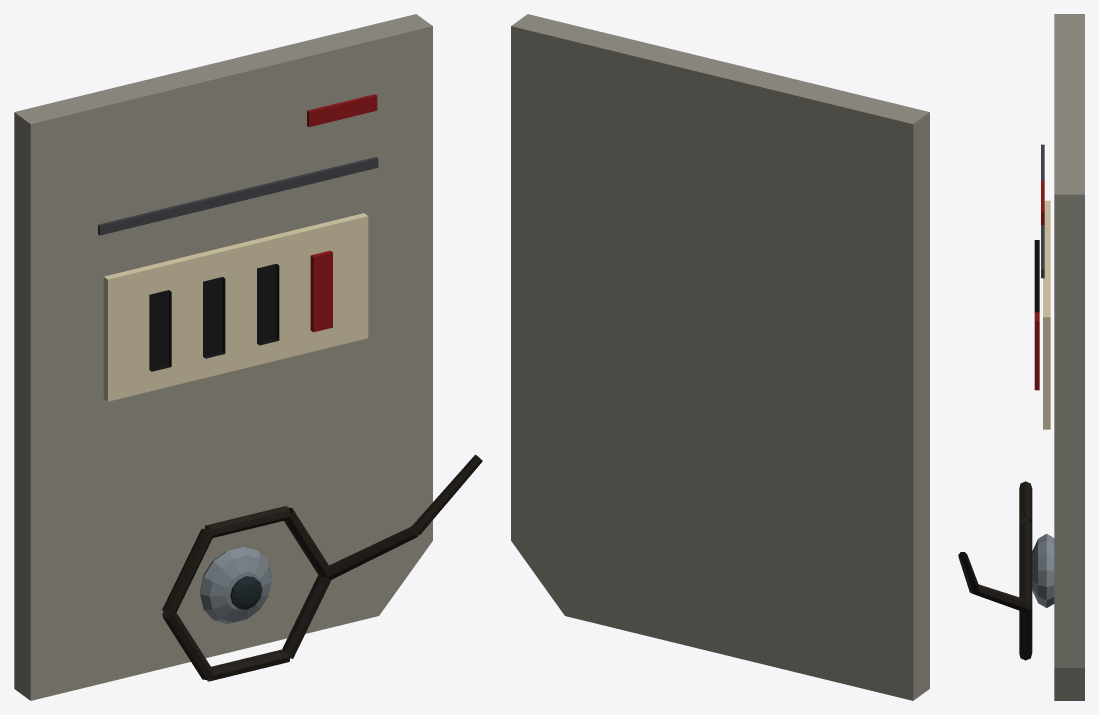
File: hospital_03.obj
3 views of the same model, side by side, from view 1: azimuth 30°, elevation 25°; view 2: azimuth 150°, elevation 25°; view 3: azimuth 270°, elevation 25° (orthographic). The views are drawn at different scales.
Parts seen in each view (by area): view 1: Tag, NumberPlate, Eyelet, StatusLine, DigitStroke0, DigitStroke3, DigitStroke2, DigitStroke1, StringRing2, StringA, StringRing5, CallMark (+6 smaller); view 2: Tag; view 3: Tag, NumberPlate, Eyelet, StringRing0, StringA, StringRing5, StringRing1, DigitStroke3, StringB, StatusLine.
Boxes of the visible parts, x1,y1,x2,y2 form: Tag: (14,14,432,700); NumberPlate: (103,213,368,401); Eyelet: (200,547,271,623); StatusLine: (98,157,378,235); DigitStroke0: (149,290,171,371); DigitStroke3: (310,250,332,332); DigitStroke2: (257,264,279,345); DigitStroke1: (203,277,225,358); StringRing2: (162,528,212,615); StringA: (326,526,418,579); StringRing5: (282,575,331,658); CallMark: (307,94,377,127); Tag: (511,14,929,700); Tag: (1054,14,1084,700); NumberPlate: (1043,200,1050,429); Eyelet: (1032,533,1054,607); StringRing0: (1019,522,1032,606); StringA: (970,584,1030,612); StringRing5: (1019,605,1032,659); StringRing1: (1019,481,1032,522); DigitStroke3: (1034,312,1039,390); StringB: (958,552,979,593); StatusLine: (1041,144,1044,278).
Size of the model in its own units: 2.24 by 3.12 by 0.6642.
